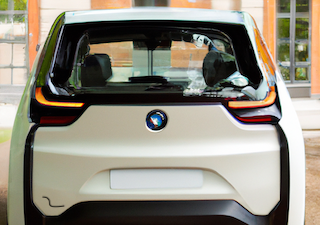scratch: (39, 194, 65, 210)
